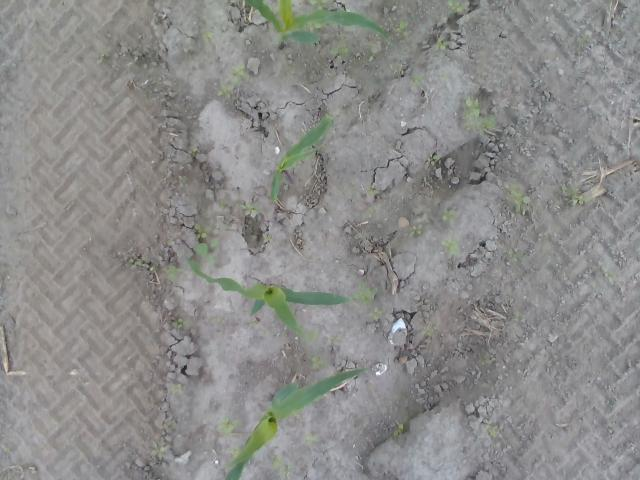Maize: (222, 367, 366, 480), (188, 256, 349, 337), (246, 0, 397, 51), (270, 112, 334, 200)
Weeds: (461, 96, 497, 133), (195, 238, 222, 266), (562, 184, 592, 206), (506, 187, 530, 214), (352, 279, 376, 303), (270, 454, 291, 478), (215, 416, 237, 436), (231, 63, 247, 88), (439, 239, 458, 255), (152, 442, 166, 462), (447, 0, 468, 13), (240, 202, 257, 218), (305, 430, 321, 447), (439, 208, 456, 224), (166, 264, 180, 283), (328, 46, 352, 56), (392, 420, 404, 440), (483, 424, 499, 439), (200, 31, 217, 45), (434, 36, 450, 50), (218, 84, 234, 98), (408, 224, 424, 238), (309, 357, 324, 371), (366, 46, 379, 62), (307, 0, 327, 10), (170, 318, 190, 328), (196, 224, 208, 239), (127, 258, 139, 271), (306, 331, 320, 342), (372, 309, 382, 322), (169, 384, 183, 393), (397, 19, 407, 30), (423, 328, 434, 338), (191, 147, 200, 158), (414, 73, 424, 82), (426, 156, 434, 167)
